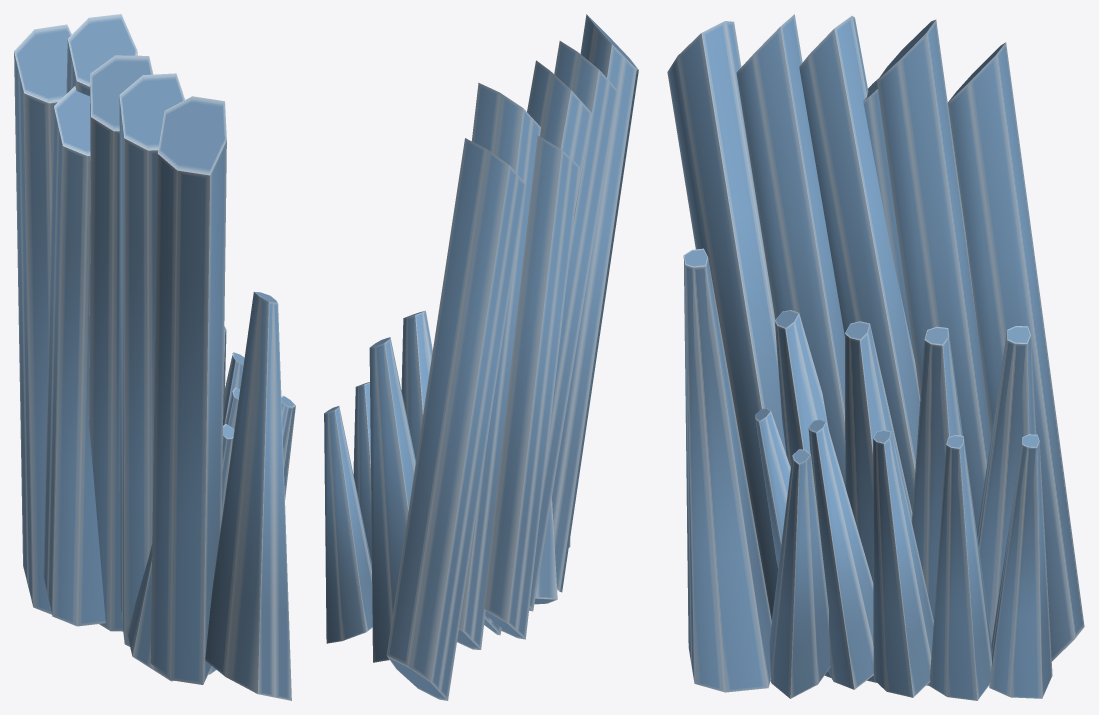
The model's file is wall_spike_06.fbx.
3 renders of one model, left to right at view 1: azimuth 30°, elevation 25°; view 2: azimuth 150°, elevation 25°; view 3: azimuth 270°, elevation 25°, orthographic. The views are drawn at different scales.
Visible parts, largest first — view 1: wall_spike_06; view 2: wall_spike_06; view 3: wall_spike_06.
Boxes of the visible parts, x1,y1,x2,y2 form: wall_spike_06: (14,14,295,700); wall_spike_06: (324,14,638,700); wall_spike_06: (667,14,1084,700).
Size of the model in its own units: 0.7434 by 2.22 by 1.3.
Materials: 1 (1 with a texture image).
